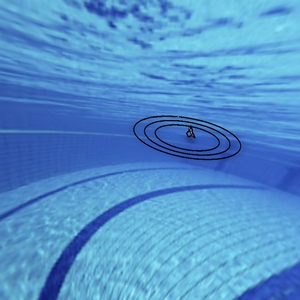circle: (123, 96, 249, 174)
submarine: (180, 120, 199, 144)
